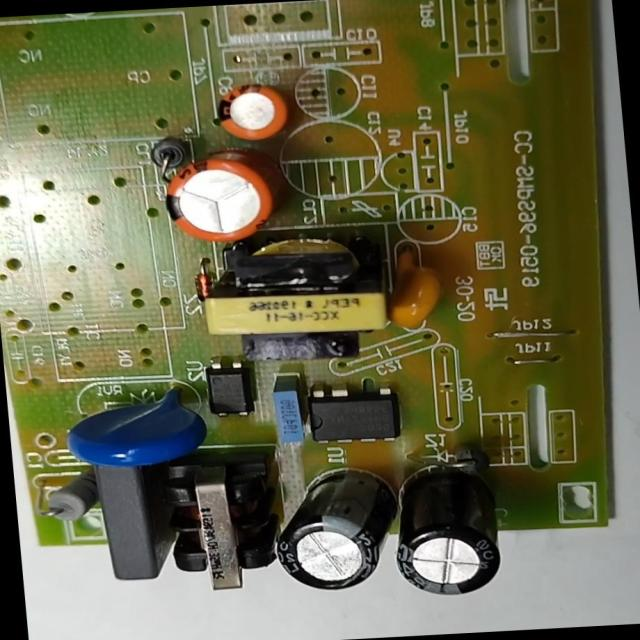Cap1: (157, 142, 285, 246)
Cap2: (208, 73, 296, 146)
Cap3: (264, 464, 404, 596)
Cap4: (383, 461, 512, 587)
MOSFET: (306, 378, 406, 452)
Mov: (57, 382, 214, 472)
Resistor: (34, 472, 100, 526)
Transformer: (194, 226, 395, 365), (146, 449, 288, 600)
